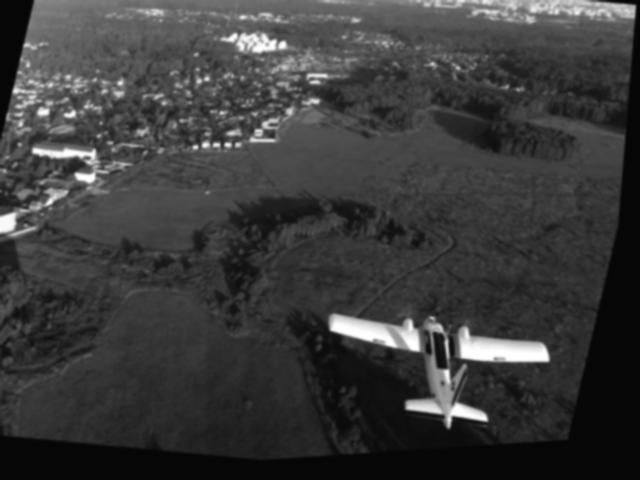hedef: (296, 276, 581, 463)
